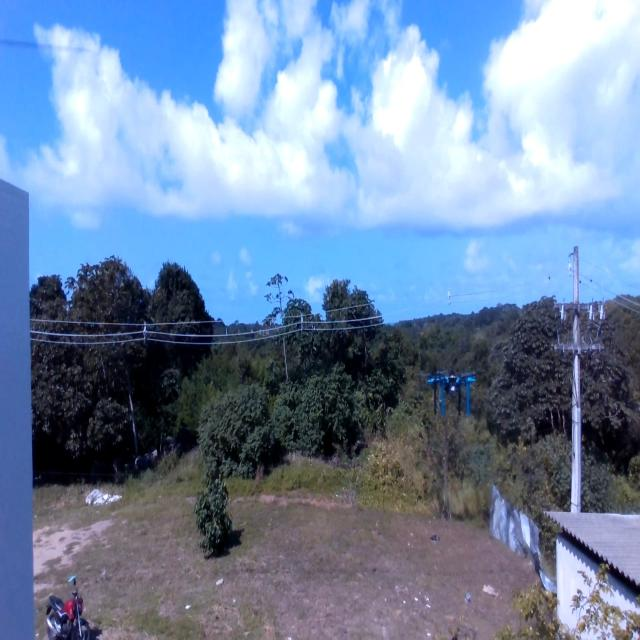-uav-: (420, 360, 490, 443)
